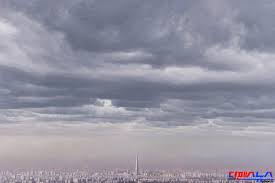sky: (2, 2, 275, 156)
